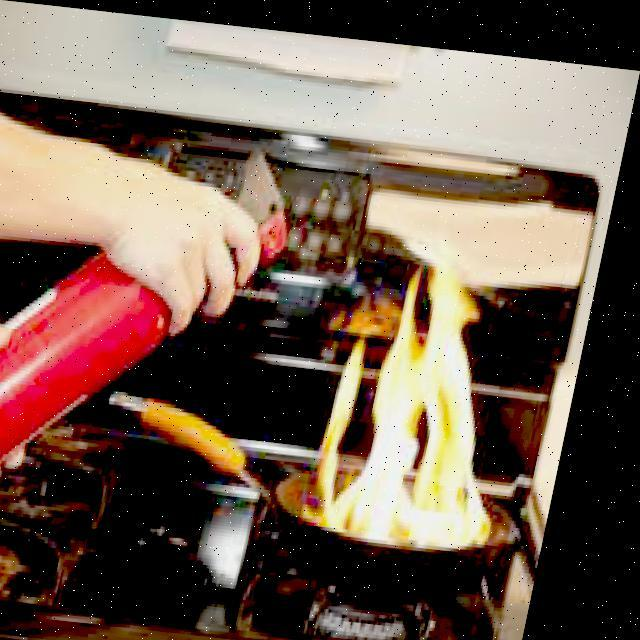Fire: (312, 251, 568, 536)
